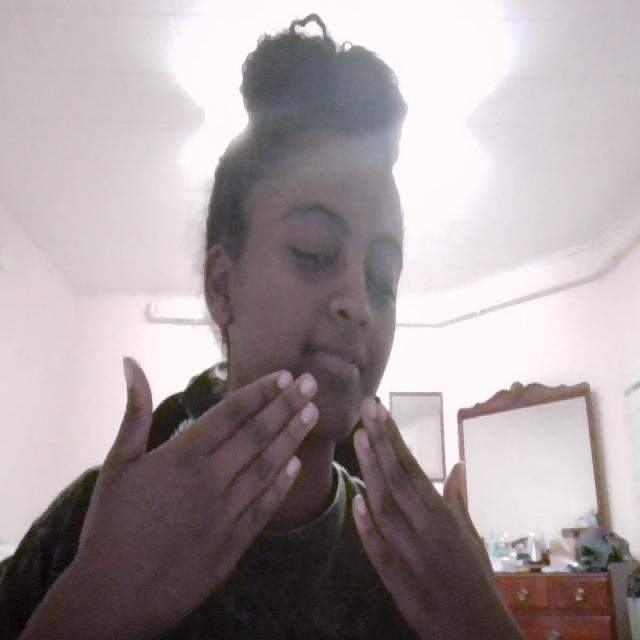thanks: (51, 337, 505, 640)
